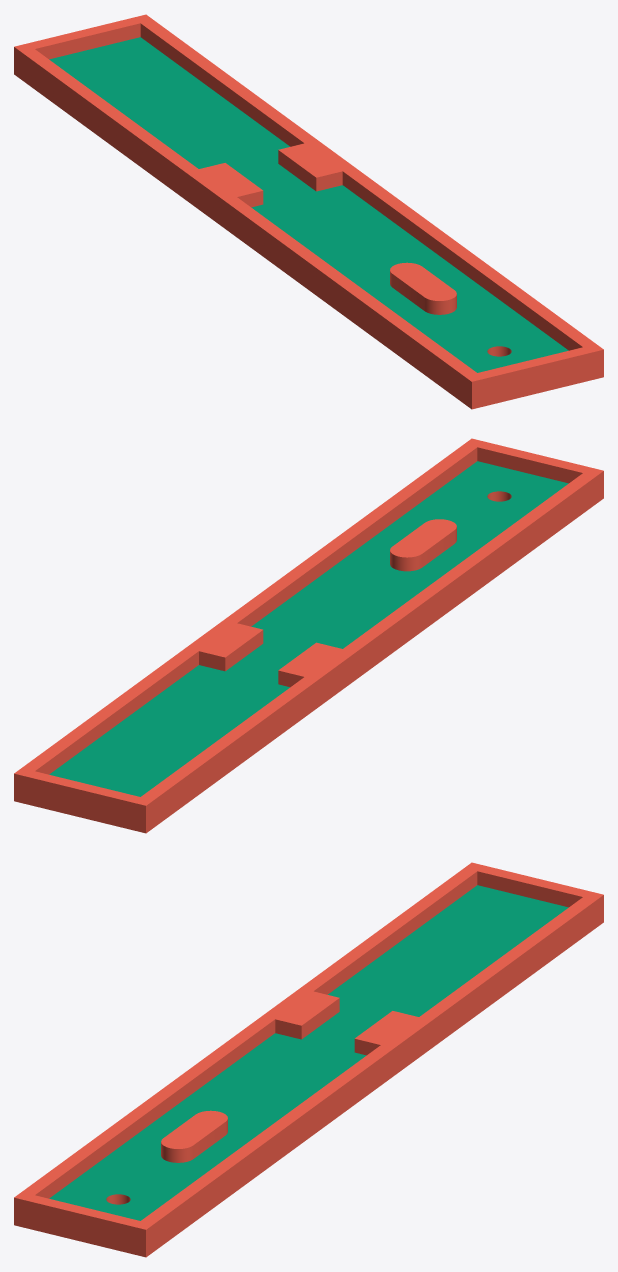
File: Level1.fbx
3 views of the same model, one above another, from view 1: azimuth 30°, elevation 25°; view 2: azimuth 150°, elevation 25°; view 3: azimuth 330°, elevation 25° (orthographic).
Visible parts, largest first — view 1: straight (×2), end_hole, end, straight_obstacleRound, straight_narrowSquare; view 2: straight (×2), end, end_hole, straight_obstacleRound, straight_narrowSquare; view 3: straight (×2), end_hole, end, straight_obstacleRound, straight_narrowSquare.
Boxes of the visible parts, x1=… form: straight (×2): x1=90, y1=70, x2=450, y2=297; end_hole: x1=395, y1=294, x2=603, y2=409; end: x1=14, y1=14, x2=221, y2=129; straight_obstacleRound: x1=319, y1=238, x2=527, y2=353; straight_narrowSquare: x1=166, y1=126, x2=374, y2=241; straight (×2): x1=90, y1=550, x2=451, y2=777; end: x1=14, y1=718, x2=222, y2=833; end_hole: x1=396, y1=438, x2=603, y2=553; straight_obstacleRound: x1=319, y1=494, x2=527, y2=609; straight_narrowSquare: x1=167, y1=606, x2=374, y2=721; straight (×2): x1=167, y1=918, x2=527, y2=1145; end_hole: x1=14, y1=1142, x2=222, y2=1257; end: x1=396, y1=862, x2=603, y2=977; straight_obstacleRound: x1=90, y1=1086, x2=298, y2=1201; straight_narrowSquare: x1=243, y1=974, x2=451, y2=1089.
Size of the model in its own units: 10 by 2 by 60.
